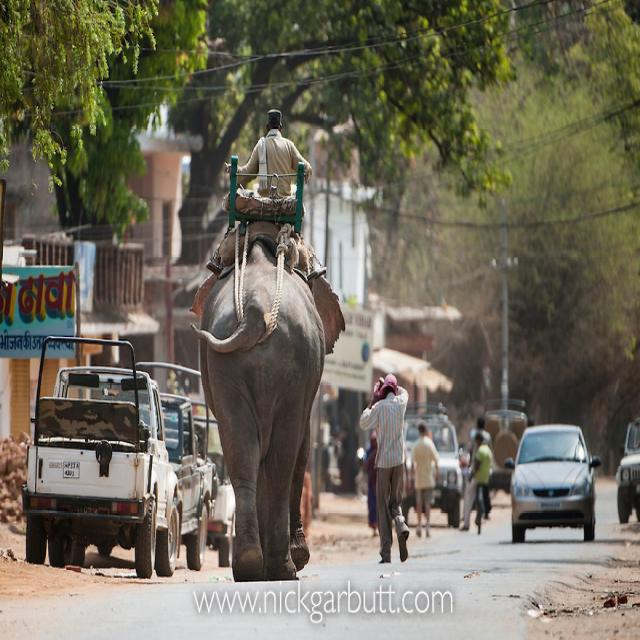body: (356, 368, 411, 566), (224, 105, 314, 198), (409, 419, 440, 539), (458, 431, 493, 533), (466, 414, 494, 520), (362, 429, 379, 537), (438, 423, 454, 454)
